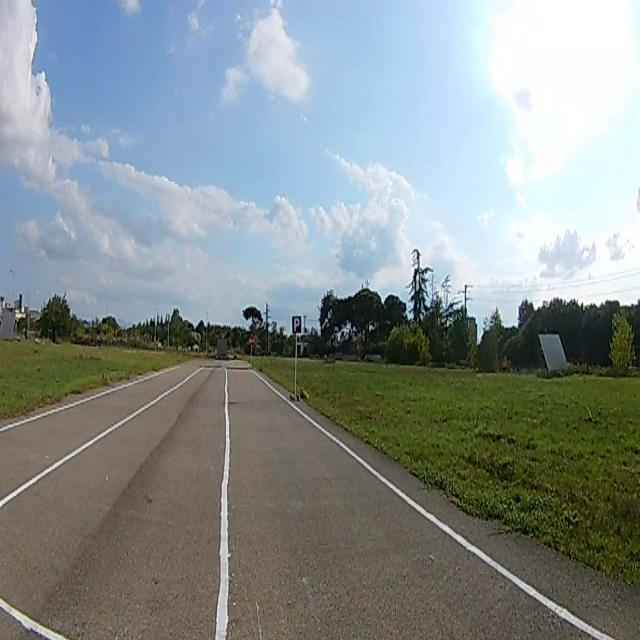park: (292, 316, 300, 332)
